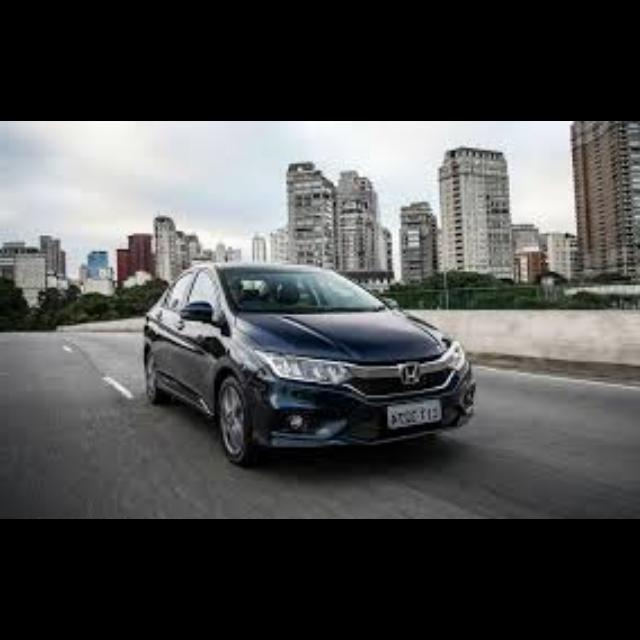vehicles: (138, 256, 482, 472)
